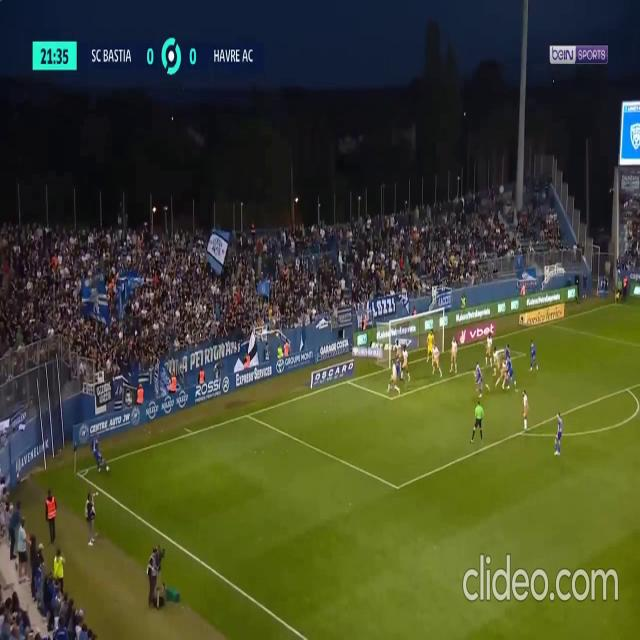player: (147, 543, 162, 609), (53, 543, 68, 602), (46, 489, 57, 551), (85, 490, 96, 546), (94, 434, 108, 474), (388, 353, 401, 394), (495, 346, 507, 386), (473, 360, 484, 398), (507, 352, 517, 392), (554, 412, 563, 456), (431, 340, 442, 375), (449, 334, 458, 374), (529, 338, 538, 372), (522, 388, 529, 429), (485, 333, 493, 367), (401, 346, 409, 378)
referee: (471, 399, 484, 444)
